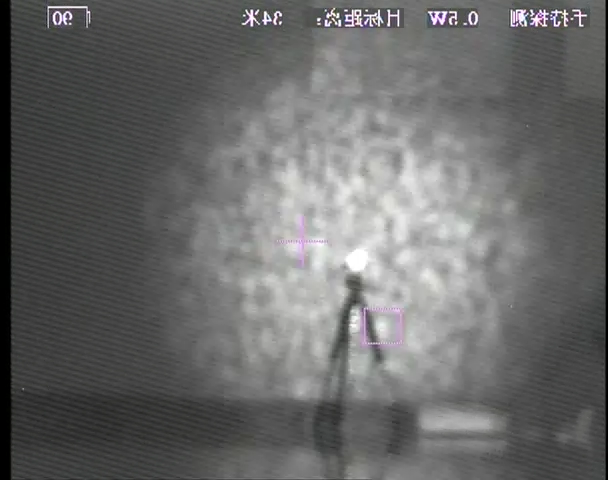my: (344, 245, 370, 276)
